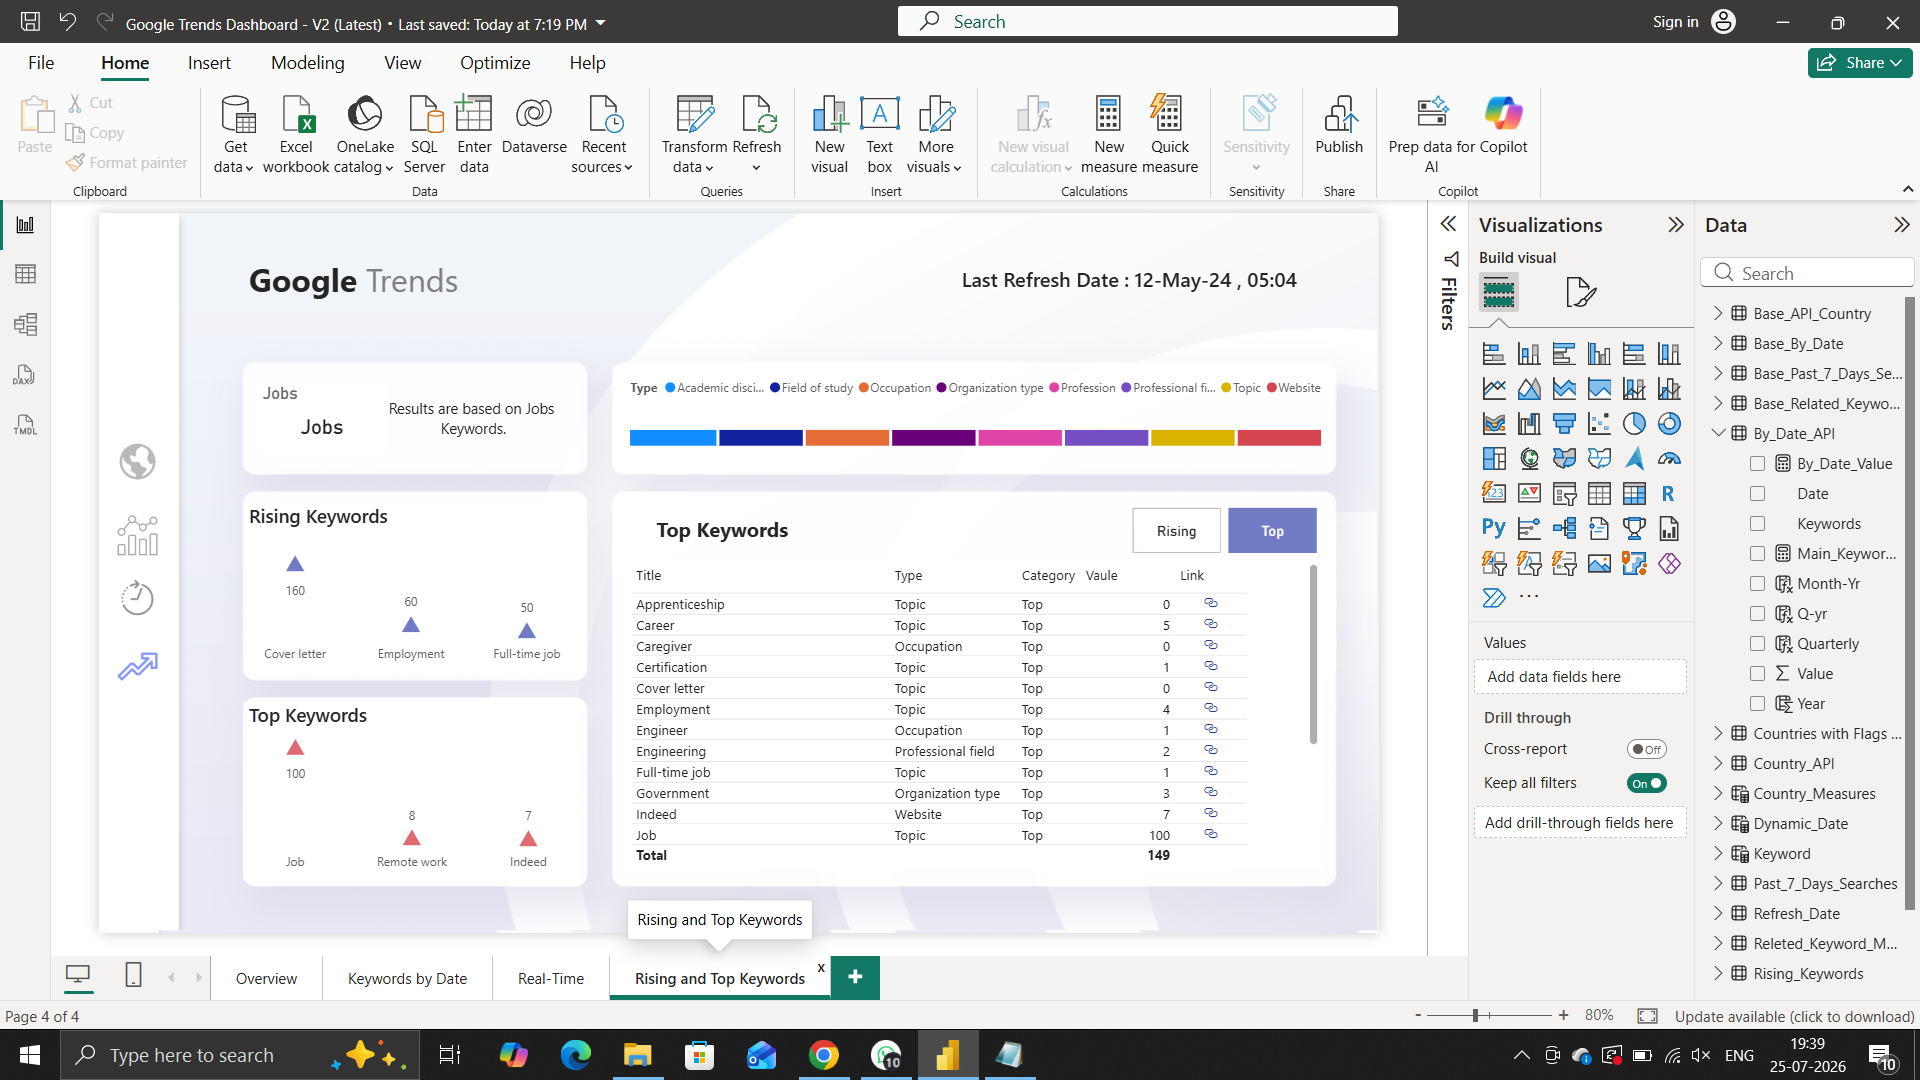

What the dashboard file says about the page in this screenshot:
{"tool":"powerbi","page":{"name":"Rising  and Top Keywords","canvas":[1280,720],"ordinal":3},"visuals":[{"type":"card","fields":{"Values":["By_Date_API.Imp_Value"]},"box":[159.3,170.5,129.1,68.5],"z":0},{"type":"card","fields":{"Values":["Releted_Keyword_Main.Imp_Short_Title"]},"box":[269.3,162.5,211.9,86],"z":1000},{"type":"lineChart","title":"Rising Keywords","fields":{"Category":["Rising_Keywords.Title"],"Y":["Sum(Rising_Keywords.Vaule)"]},"box":[145.1,290.1,336.5,169.2],"z":2000},{"type":"lineChart","title":"Top Keywords","fields":{"Category":["Top_Keywords.Title"],"Y":["Sum(Top_Keywords.Value)"]},"box":[145,489.2,336.2,178.5],"z":3000},{"type":"barChart","fields":{"Y":["Sum(Rising_Keywords.Vaule)"],"Series":["Top_Rising.Type"]},"box":[525.8,154.6,713.8,105.2],"z":4000},{"type":"advancedSlicerVisual","fields":{"Values":["Top_Rising.Category"]},"box":[1029.3,290,194.4,55.8],"z":5000},{"type":"tableEx","fields":{"Values":["Top_Rising.Title","Top_Rising.Type","Top_Rising.Category","Sum(Top_Rising.Vaule)","Top_Rising.Link"]},"box":[525.8,345.8,697.9,310.7],"z":6000},{"type":"card","fields":{"Values":["Top_Rising.Title_TR"]},"box":[525.8,290,194.4,55.8],"z":7000},{"type":"textbox","box":[145.2,40.6,309.2,56.2],"z":8000},{"type":"card","fields":{"Values":["Min(Refresh_Date.Refresh_Date)"]},"box":[842.9,39.8,376,55.8],"z":9000},{"type":"image","box":[14.1,298,50,50],"z":10000},{"type":"image","box":[14.1,360.5,50,50],"z":11000},{"type":"image","box":[14.1,224,50,50],"z":12000},{"type":"image","box":[14.1,429.2,50,50],"z":13000}]}

Visuals, with their boxes on the page's 1280x720 design canvas (x1, y1, x2, y2). These are canvas units, not pixel positions in the 1920x1080 screenshot, which may show the page scaled, cropped or inside an application window:
card - By_Date_API.Imp_Value: <region>159, 170, 288, 239</region>
card - Releted_Keyword_Main.Imp_Short_Title: <region>269, 162, 481, 248</region>
"Rising Keywords" lineChart: <region>145, 290, 482, 459</region>
"Top Keywords" lineChart: <region>145, 489, 481, 668</region>
barChart - Sum(Rising_Keywords.Vaule) x Top_Rising.Type: <region>526, 155, 1240, 260</region>
advancedSlicerVisual - Top_Rising.Category: <region>1029, 290, 1224, 346</region>
tableEx - Top_Rising.Title x Top_Rising.Type: <region>526, 346, 1224, 656</region>
card - Top_Rising.Title_TR: <region>526, 290, 720, 346</region>
textbox: <region>145, 41, 454, 97</region>
card - Min(Refresh_Date.Refresh_Date): <region>843, 40, 1219, 96</region>
image: <region>14, 298, 64, 348</region>
image: <region>14, 360, 64, 410</region>
image: <region>14, 224, 64, 274</region>
image: <region>14, 429, 64, 479</region>
